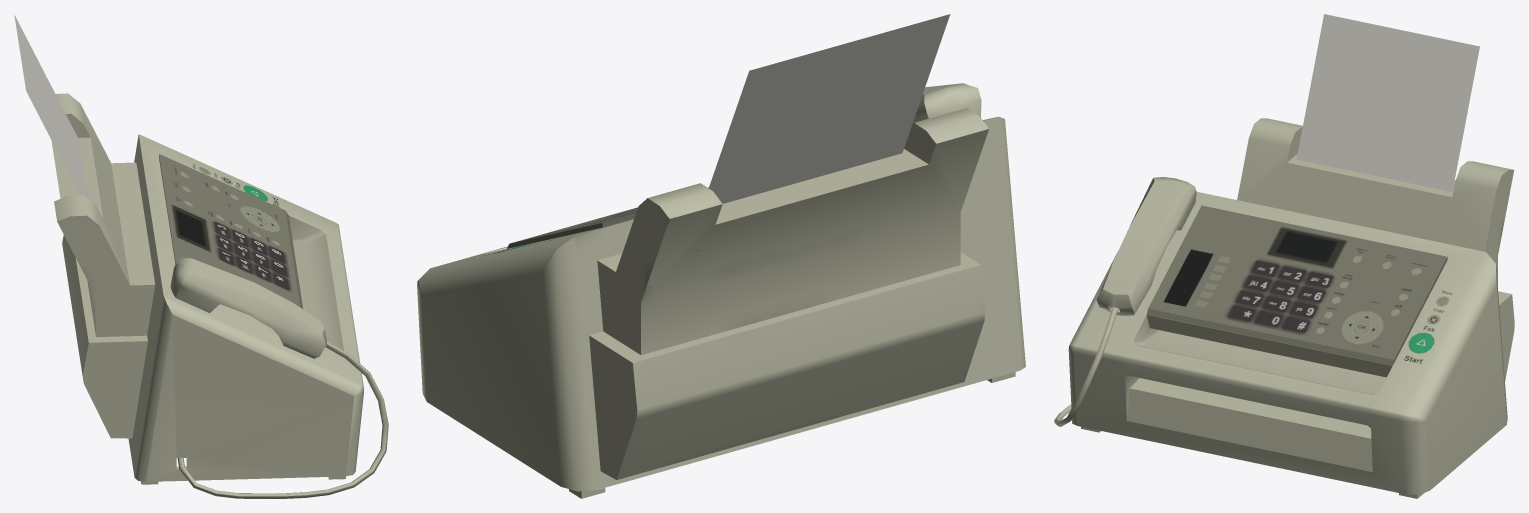
File: faxMachine.glb
3 renders of one model, left to right at view 1: azimuth 30°, elevation 25°; view 2: azimuth 150°, elevation 25°; view 3: azimuth 270°, elevation 25°, orthographic. The views are drawn at different scales.
Visible parts, largest first — view 1: fax_machine_geo; view 2: fax_machine_geo; view 3: fax_machine_geo.
Part boxes in pixels (x1=…): fax_machine_geo: x1=14, y1=15, x2=388, y2=498; fax_machine_geo: x1=417, y1=14, x2=1025, y2=498; fax_machine_geo: x1=1054, y1=14, x2=1514, y2=498.
Size of the model in its own units: 0.4727 by 0.4411 by 0.5587.
1 material, 1 textured.
